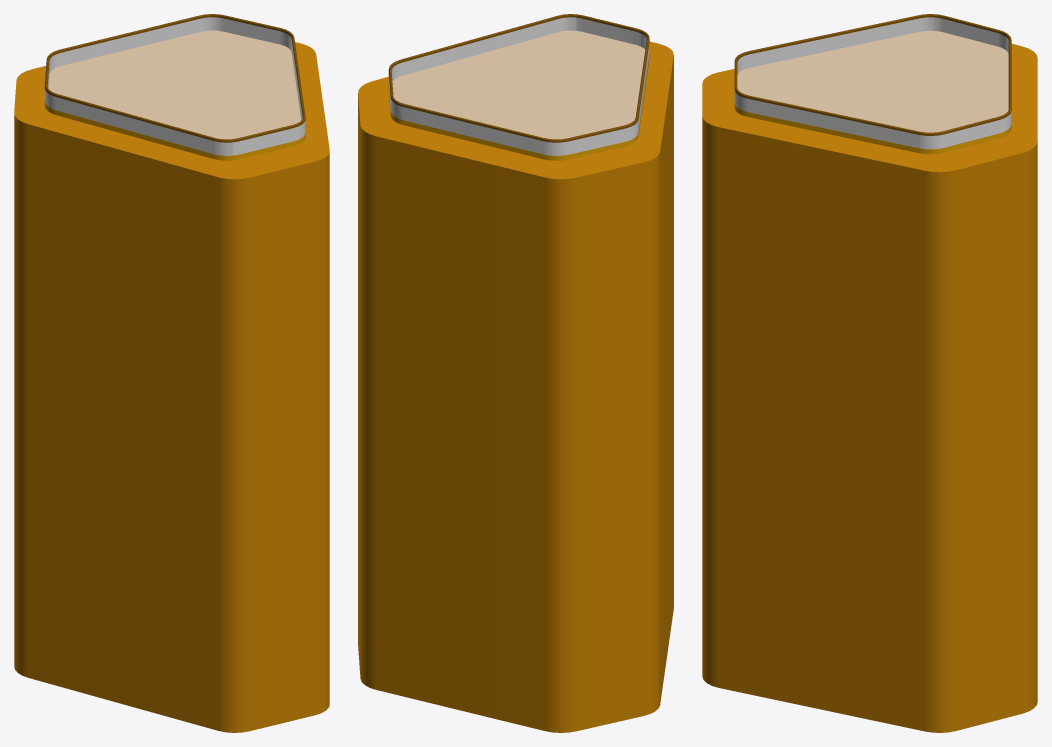
The picture shows the model from 3 angles, left to right: view 1: azimuth 30°, elevation 25°; view 2: azimuth 150°, elevation 25°; view 3: azimuth 270°, elevation 25°; orthographic projection.
Visible parts, largest first — view 1: base34, base13, polySurface1177, polySurface1176, polySurface300; view 2: base34, base13, polySurface1176, polySurface1177, polySurface300; view 3: base34, base13, polySurface1176, polySurface1177, polySurface300.
Boxes of the visible parts, <box> form: base34: <box>14,42,329,732</box>; base13: <box>44,30,305,160</box>; polySurface1177: <box>44,48,232,155</box>; polySurface1176: <box>184,17,305,139</box>; polySurface300: <box>44,14,305,142</box>; base34: <box>358,41,673,732</box>; base13: <box>388,30,649,160</box>; polySurface1176: <box>388,17,576,124</box>; polySurface1177: <box>527,33,649,155</box>; polySurface300: <box>388,14,649,142</box>; base34: <box>702,43,1037,732</box>; base13: <box>734,30,1011,154</box>; polySurface1176: <box>735,92,1011,149</box>; polySurface1177: <box>738,17,1008,72</box>; polySurface300: <box>735,14,1011,135</box>.
Bounding box in the file's own units: 60.66 × 114 × 59.25.
